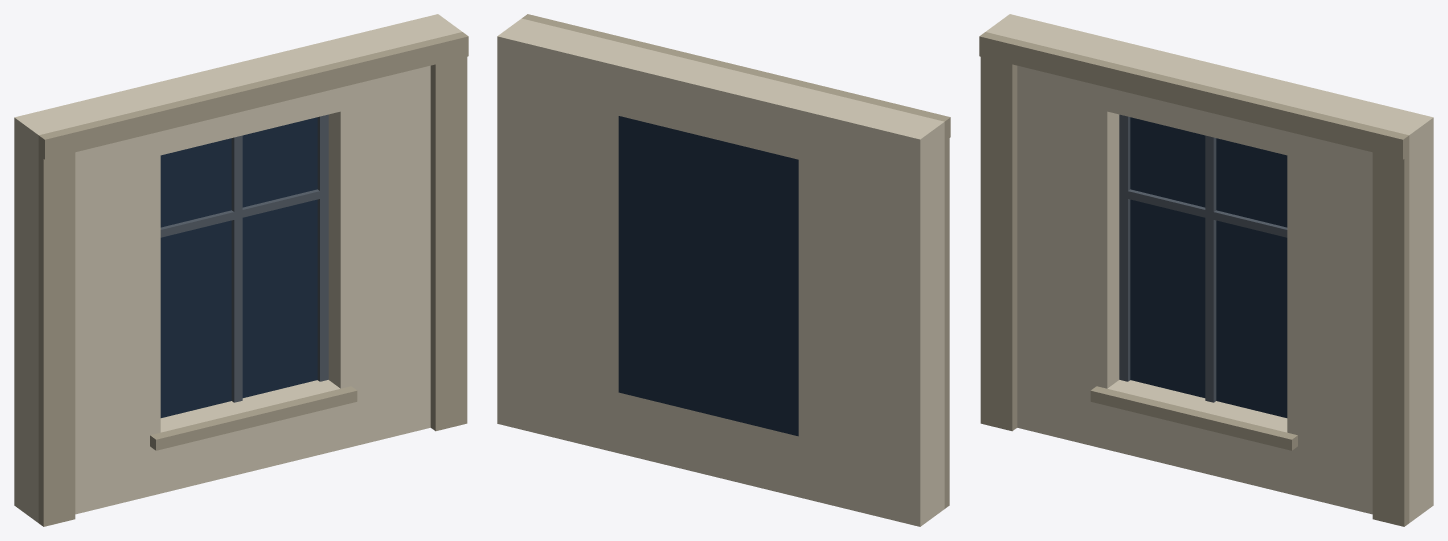
Rendered from co_win_d.glb.
3 views of the same model, side by side, from view 1: azimuth 30°, elevation 25°; view 2: azimuth 150°, elevation 25°; view 3: azimuth 330°, elevation 25° (orthographic).
Parts seen in each view (by area): view 1: city_co_win_d; view 2: city_co_win_d; view 3: city_co_win_d.
Boxes of the visible parts, x1,y1,x2,y2 form: city_co_win_d: [14, 14, 468, 526]; city_co_win_d: [497, 14, 950, 526]; city_co_win_d: [979, 14, 1433, 526].
Bounding box in the file's own units: 4 × 3.5 × 0.5.
Materials: 1 (1 with a texture image).
